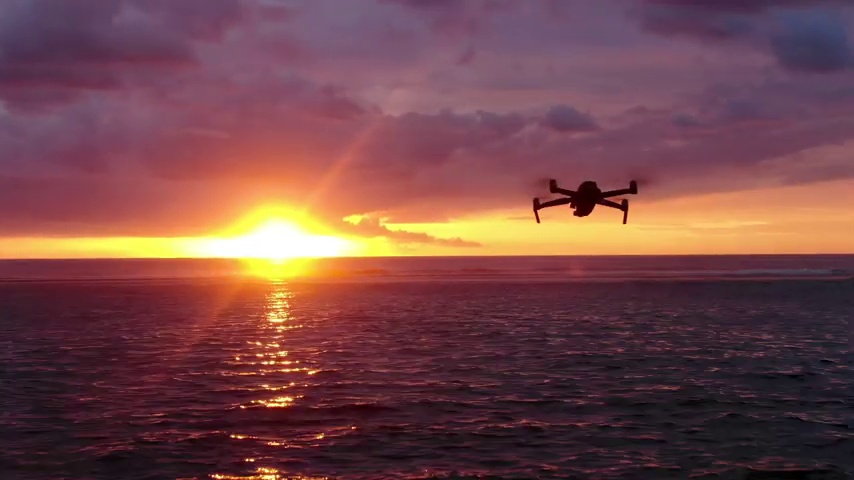drone: (529, 175, 641, 224)
